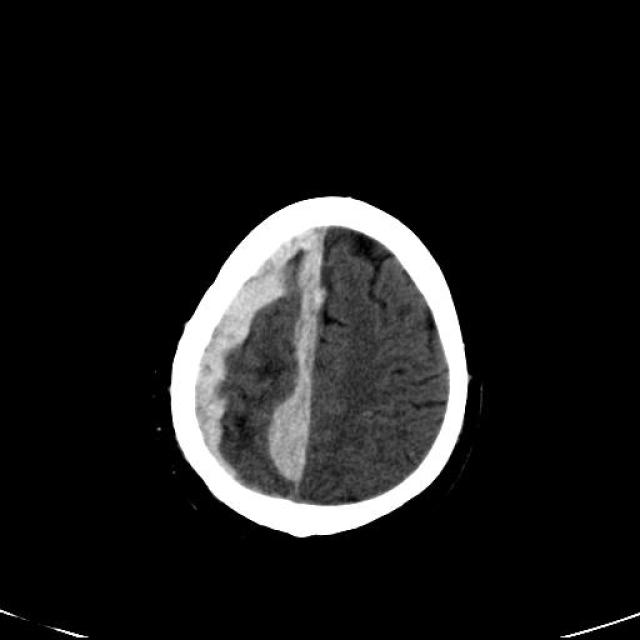Subdural: (161, 215, 334, 497)
